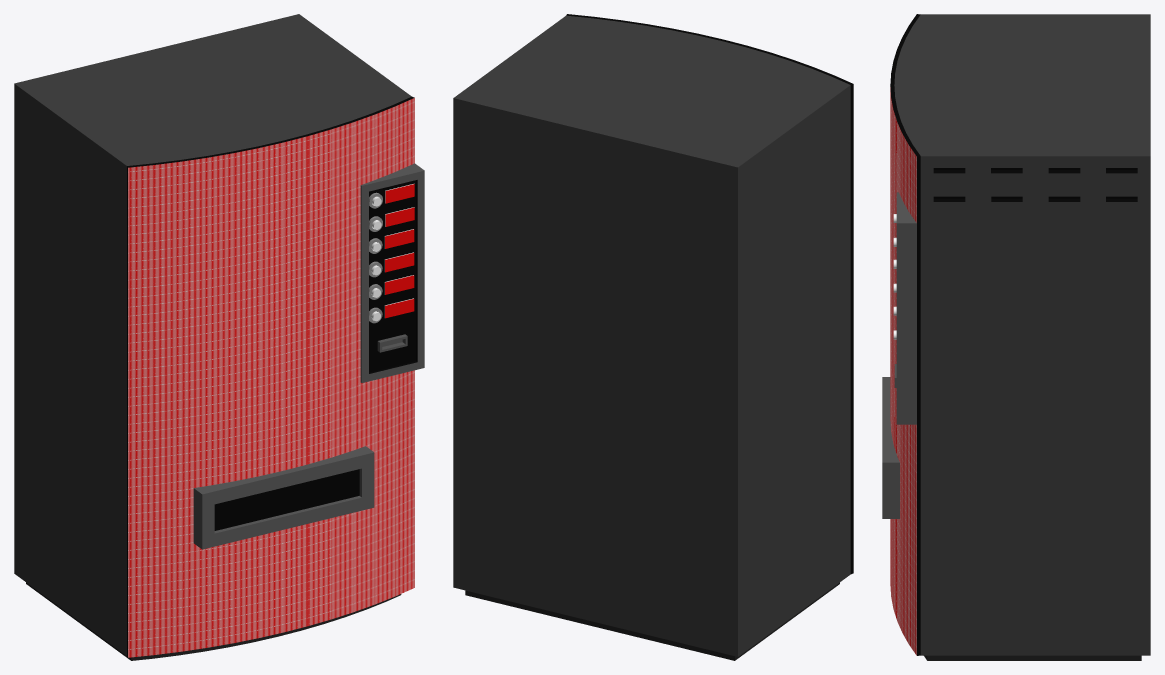
File: SodaDispenser.dae
The picture shows the model from 3 angles, left to right: view 1: azimuth 30°, elevation 25°; view 2: azimuth 150°, elevation 25°; view 3: azimuth 270°, elevation 25°; orthographic projection. The views are drawn at different scales.
Parts seen in each view (by area): view 1: SketchUp (×8); view 2: SketchUp (×3); view 3: SketchUp (×6).
Part boxes in pixels (left/top/right/bottom): SketchUp (×8): left=14, top=14, right=424, bottom=660; SketchUp (×3): left=453, top=14, right=853, bottom=660; SketchUp (×6): left=882, top=14, right=1150, bottom=660.
Size of the model in its own units: 131 by 104 by 218.
Materials: 9 (1 with a texture image).
